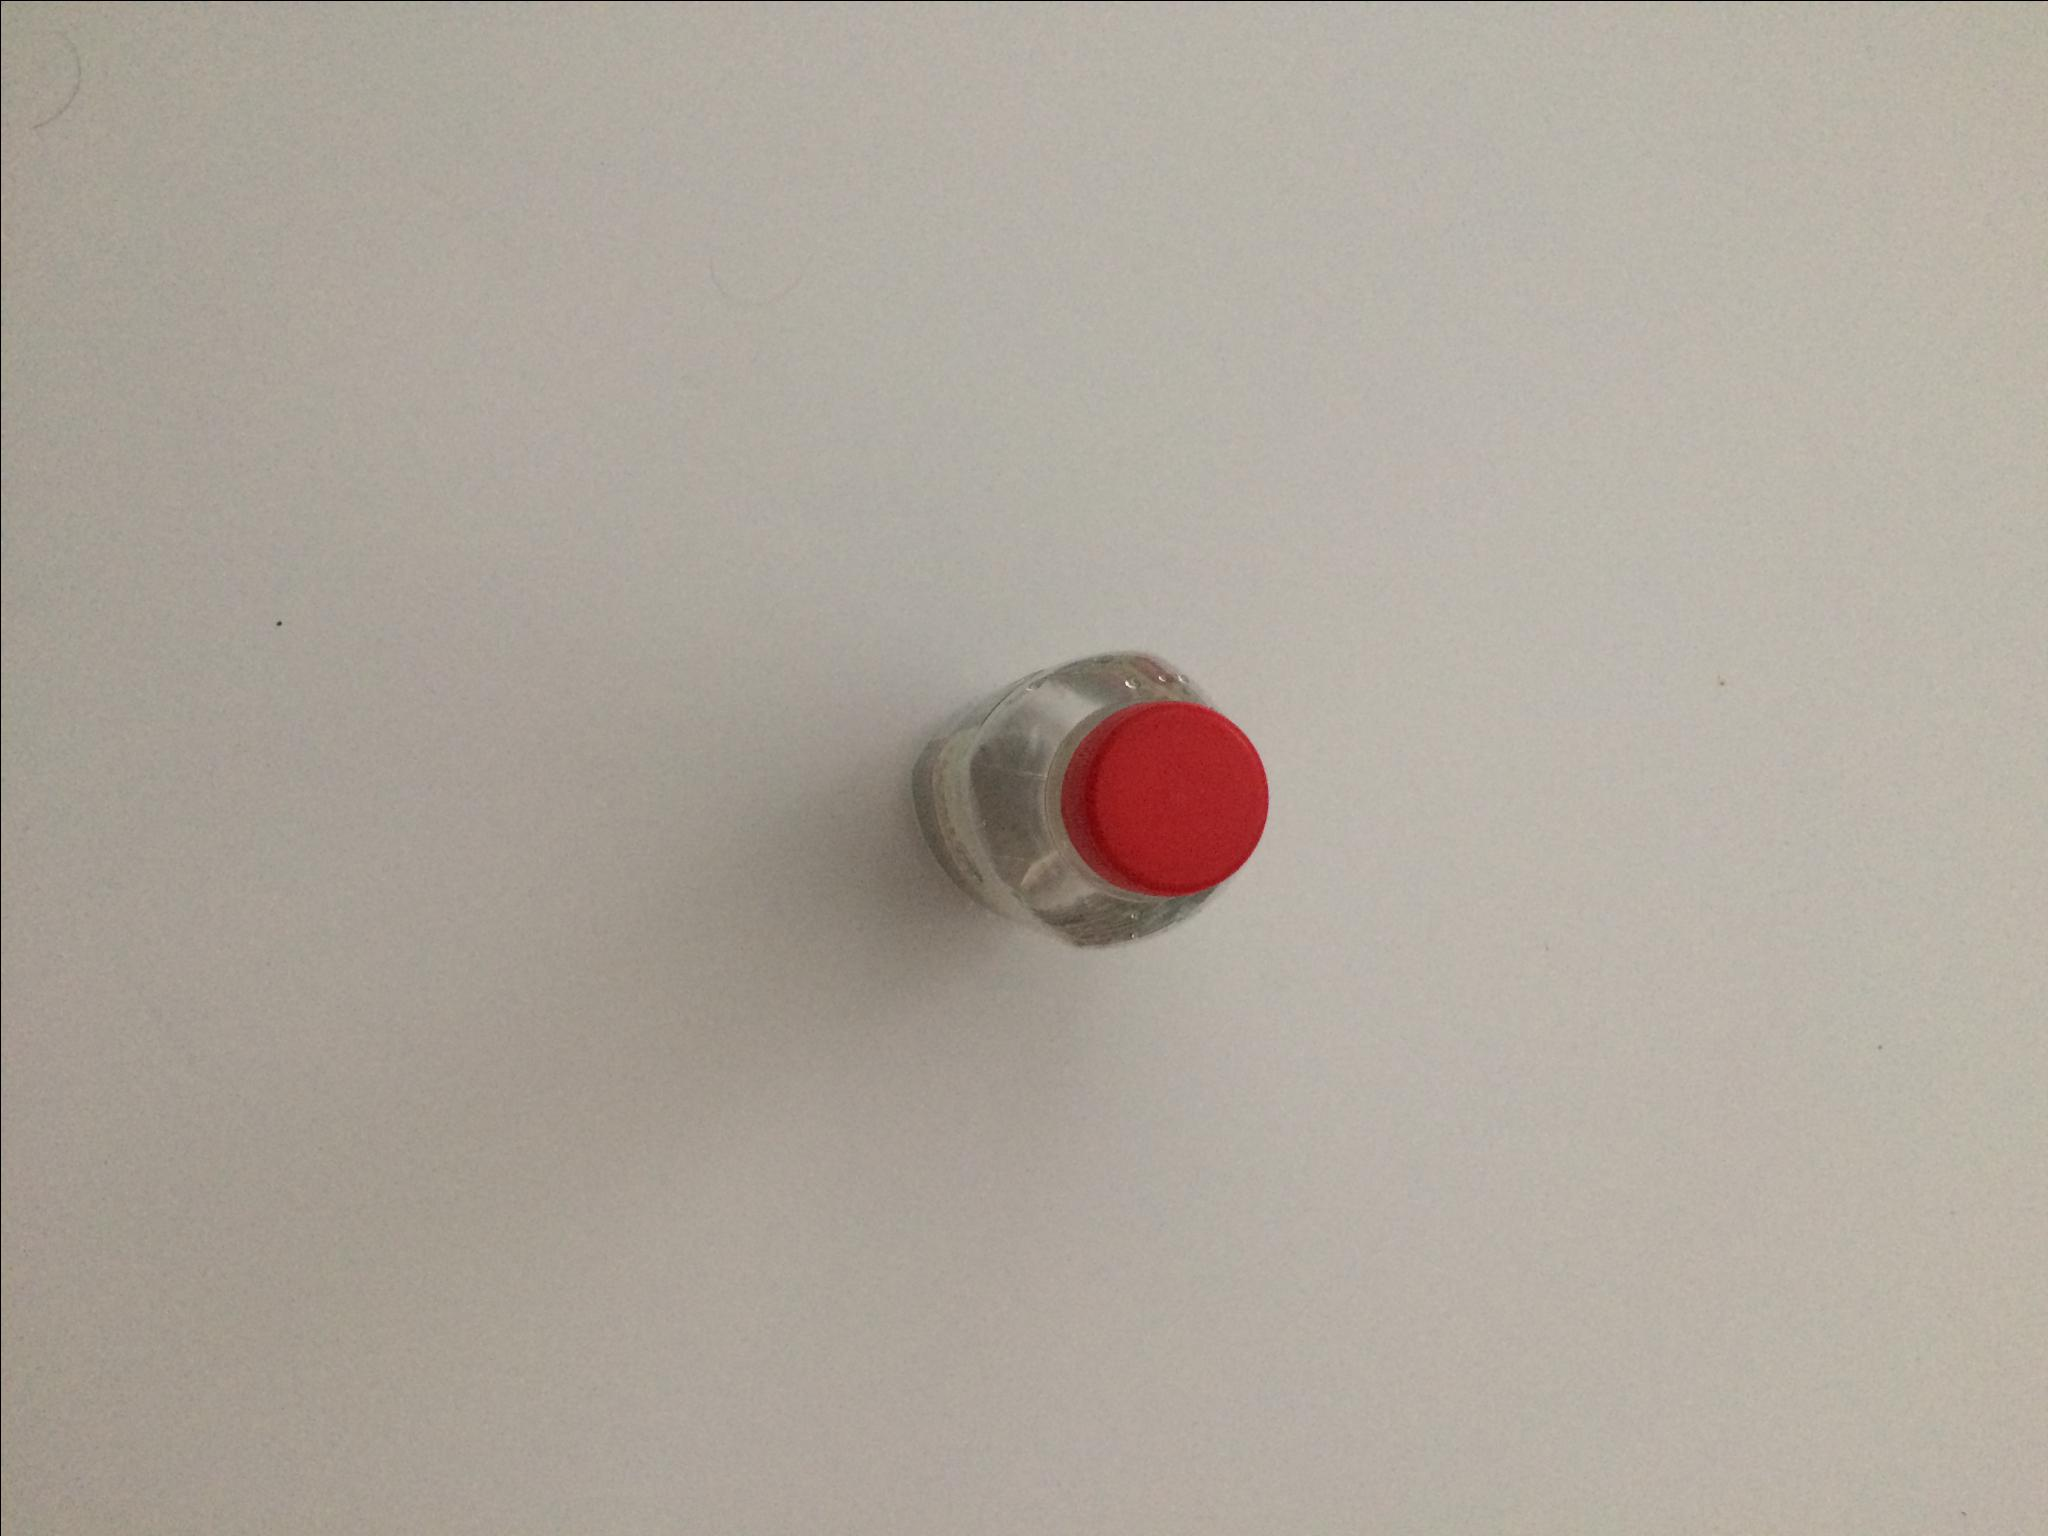Plastic: (879, 615, 1287, 986)
